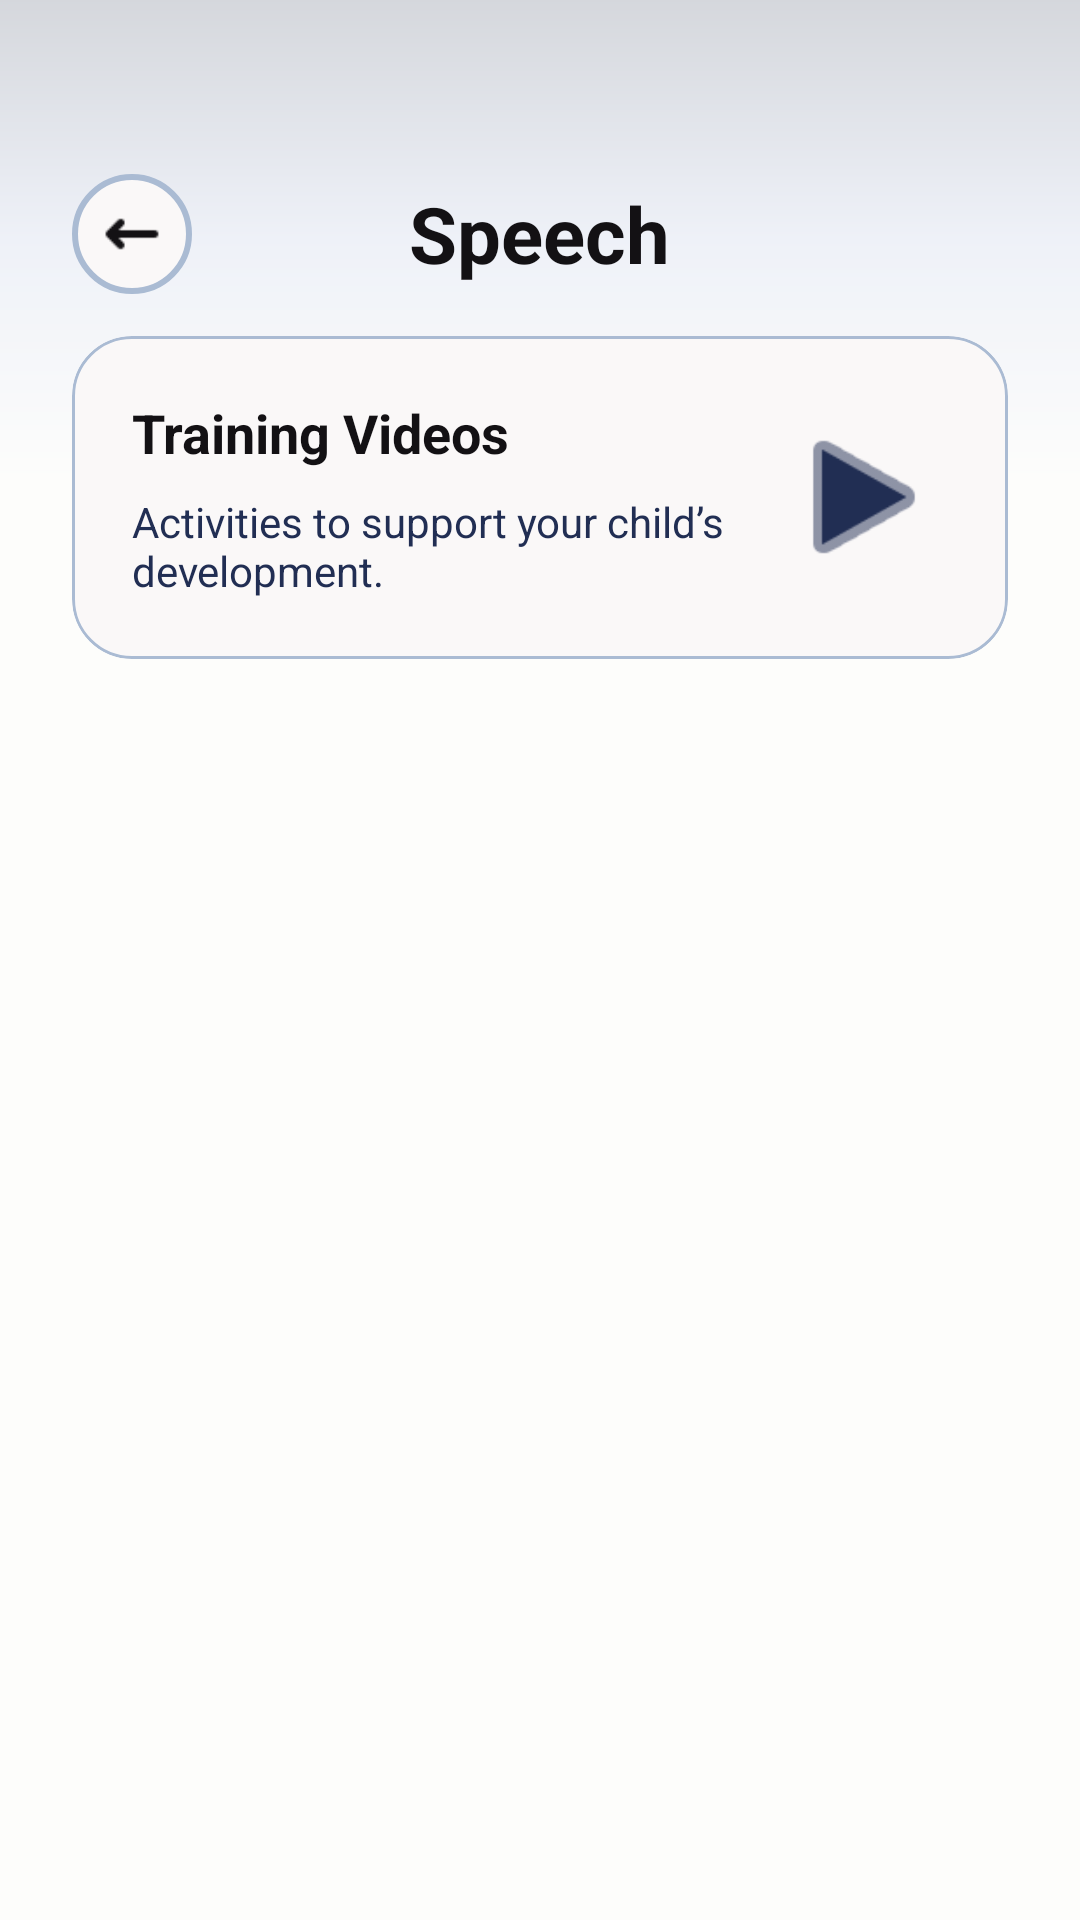

Screen size 1080*1920. Icon name, then its center in pixels as (x,y):
Video: (864,497)
